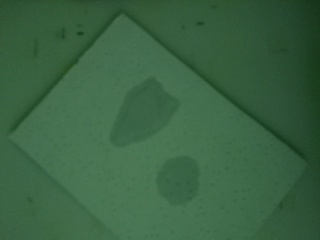Water_detected: (118, 81, 166, 135), (167, 159, 194, 191)
